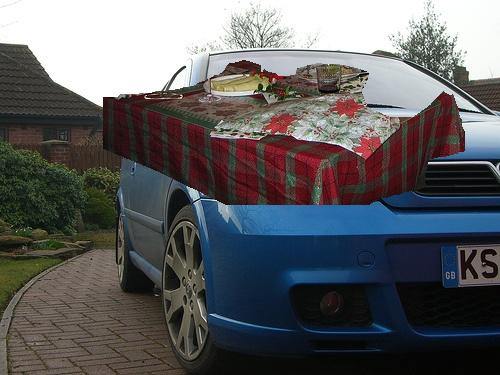tampered: (104, 61, 465, 205)
